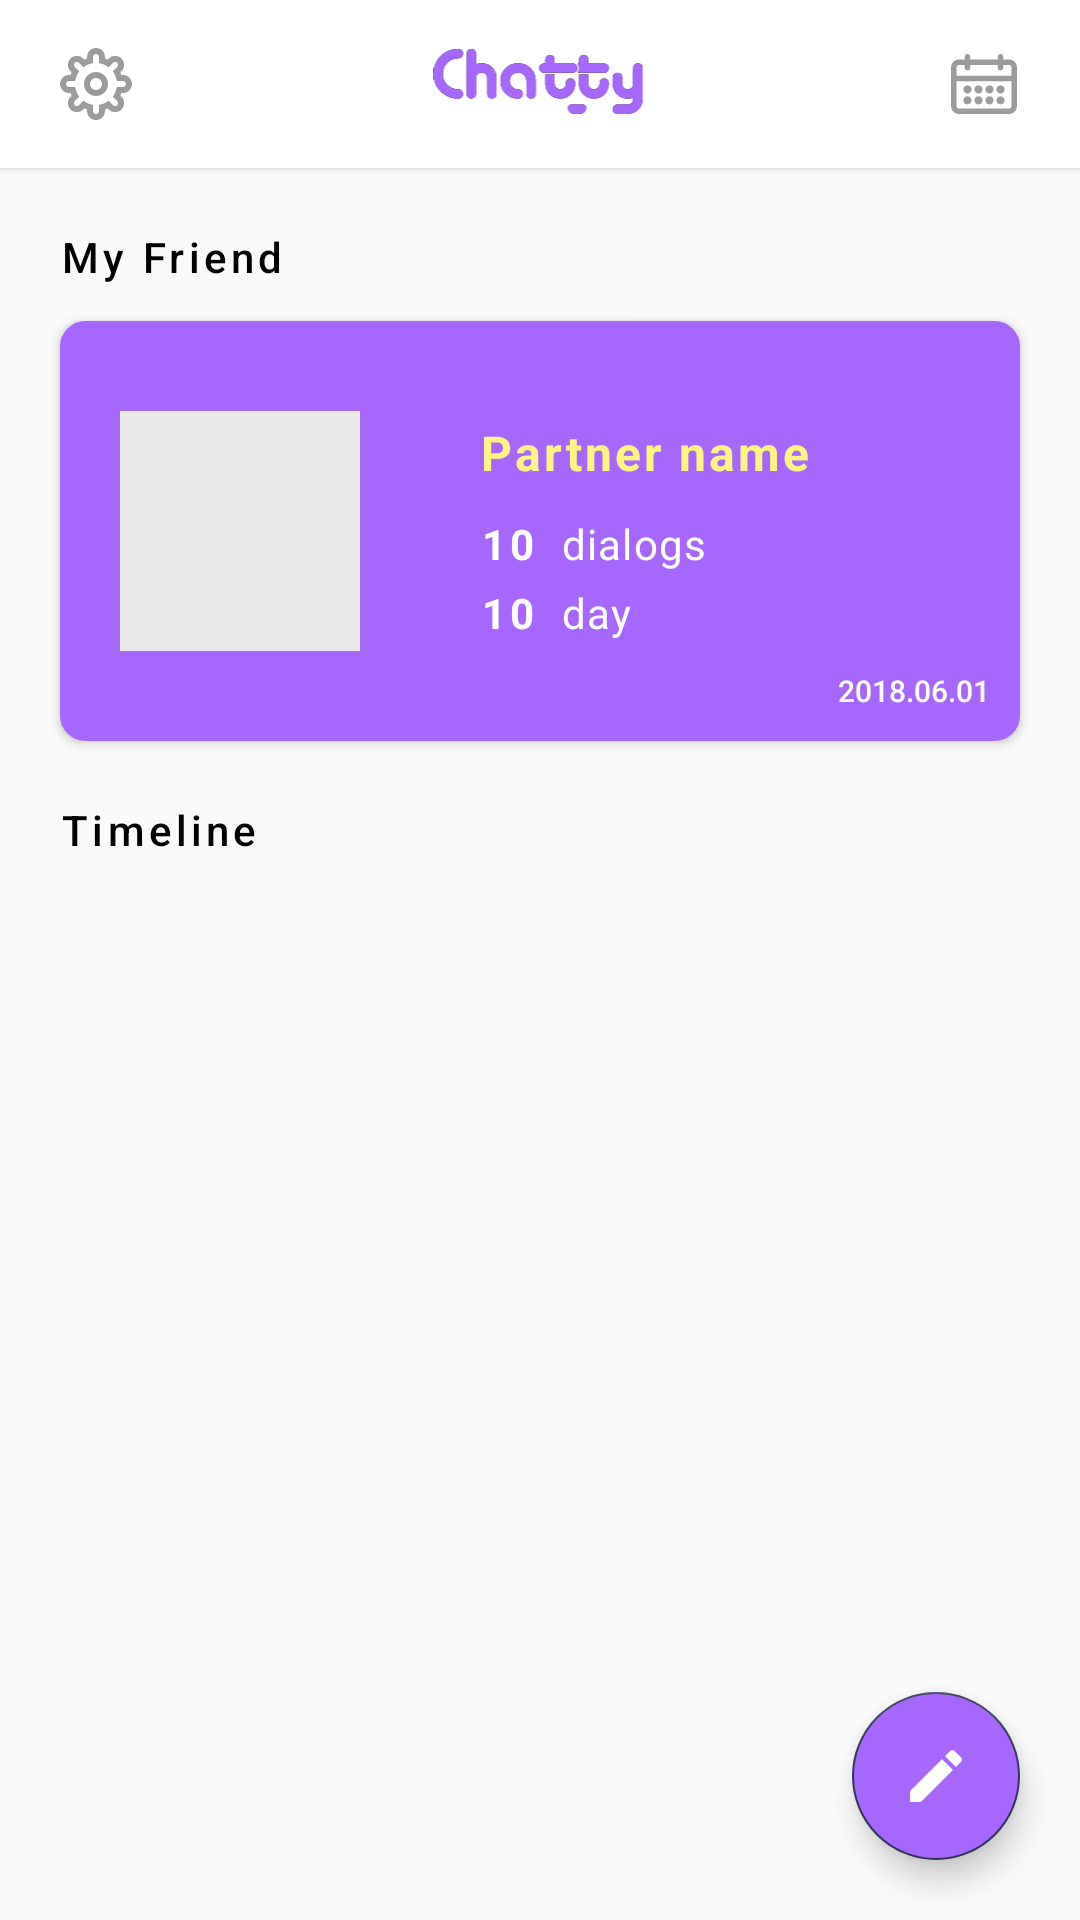

Where icons sit on this 1080*1920 app screen, as [x1,y1,x2,y2]:
calendar: [951,54,1017,114]
settings: [60,48,132,120]
write: [852,1692,1020,1860]
